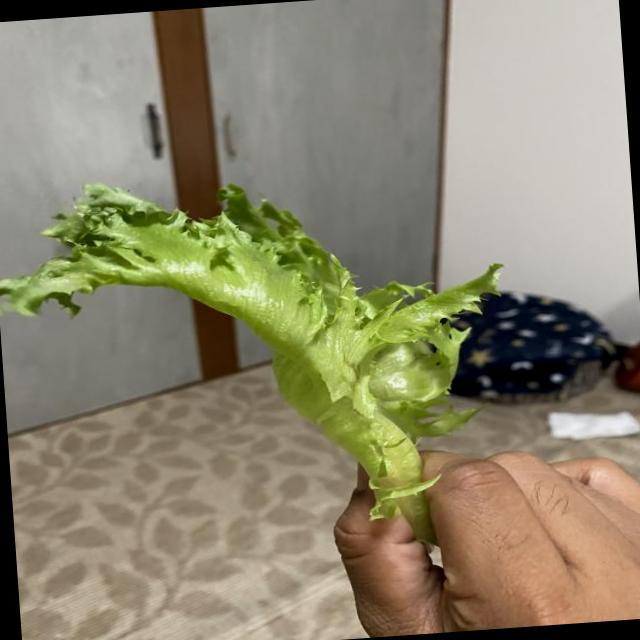Lettuce-Ready-to-Harvest: (0, 183, 500, 541)
